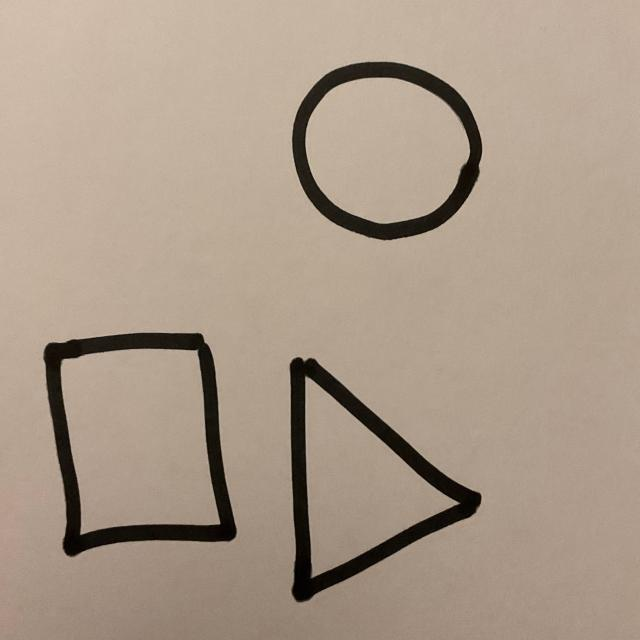Dreieck: (288, 359, 484, 604)
Kreis: (290, 61, 484, 242)
Quadrat: (42, 333, 238, 559)
